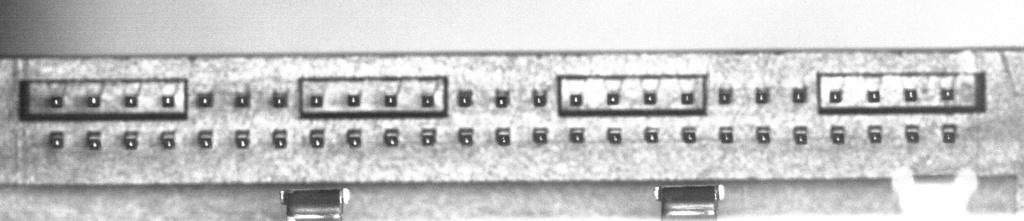pin_ok: (457, 127, 475, 146), (271, 128, 288, 148), (383, 127, 400, 147), (197, 129, 214, 148), (420, 127, 437, 146), (457, 88, 474, 107), (271, 89, 288, 108), (86, 130, 102, 150), (123, 130, 139, 150), (309, 128, 325, 148), (48, 130, 65, 148), (234, 129, 250, 148), (160, 130, 176, 149), (346, 128, 362, 147), (830, 125, 846, 144), (941, 124, 957, 143), (532, 87, 548, 106), (495, 127, 511, 145), (532, 126, 548, 144), (867, 125, 883, 143), (495, 88, 510, 107), (681, 126, 697, 143), (196, 91, 213, 107), (793, 126, 808, 144), (905, 125, 920, 143), (718, 86, 733, 104), (569, 127, 585, 143), (233, 91, 249, 107), (644, 126, 659, 143), (756, 126, 771, 143), (755, 87, 770, 104), (719, 126, 734, 143), (792, 86, 807, 103), (607, 127, 622, 143), (421, 92, 436, 107), (940, 87, 955, 101), (828, 89, 843, 103), (680, 91, 695, 105), (643, 90, 657, 105), (904, 88, 918, 102), (346, 93, 360, 107), (606, 91, 620, 105), (569, 93, 583, 106), (309, 94, 323, 107), (384, 93, 397, 107), (124, 94, 138, 107), (161, 94, 175, 107), (49, 95, 63, 108), (867, 89, 880, 102), (86, 95, 100, 107)
